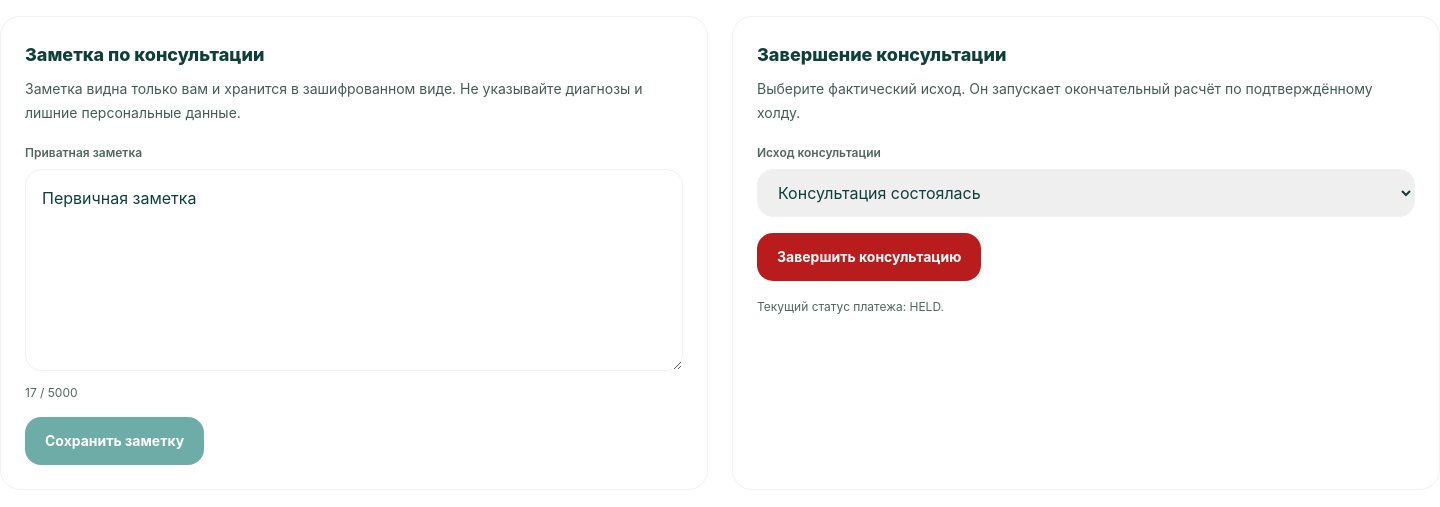
ExpertSessionActions › не сообщает о сохранении заметки до подтверждения API
Replace the text in the text box labelled "Приватная заметка" with "Новая заметка" at [354, 270], box [25,169,683,371]
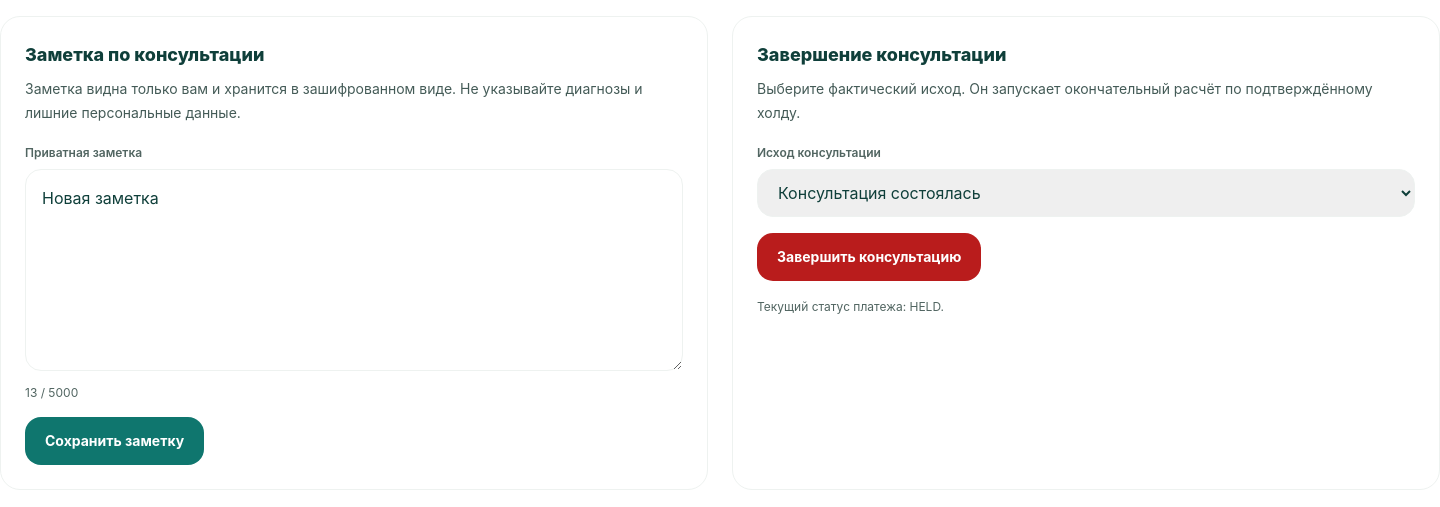
Click the button "Сохранить заметку" at [115, 441], box [25,417,204,465]
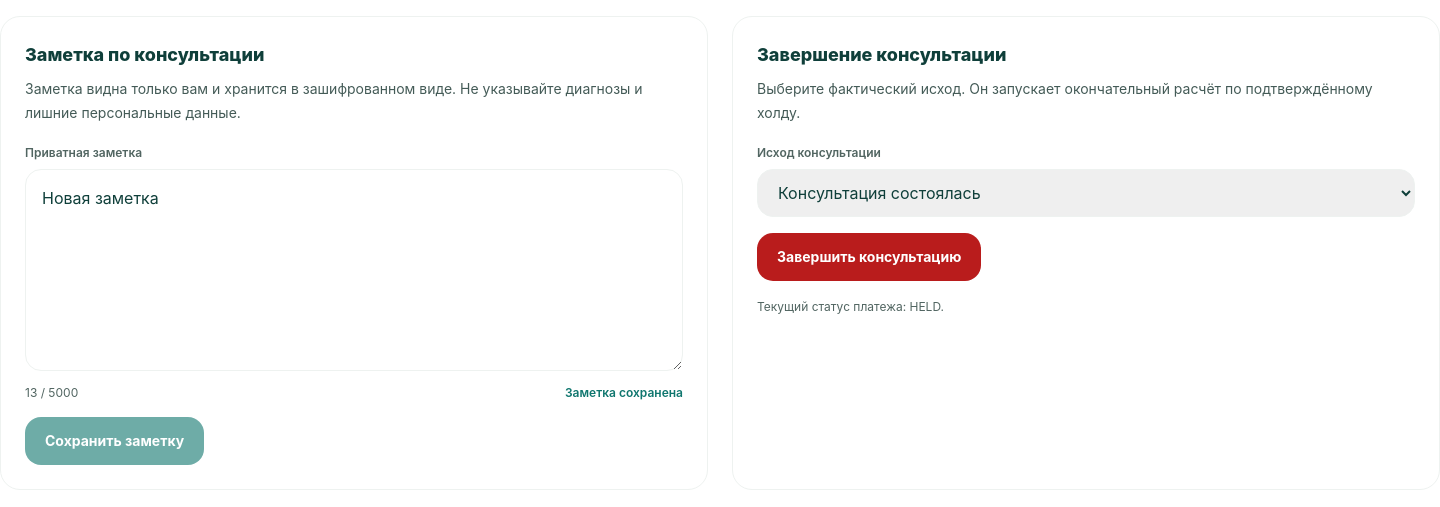
Check: the button named "Сохраняем…" is disabled, box [25,417,204,465]
Check: the text "Заметка сохранена" is shown, box [565,385,683,401]
